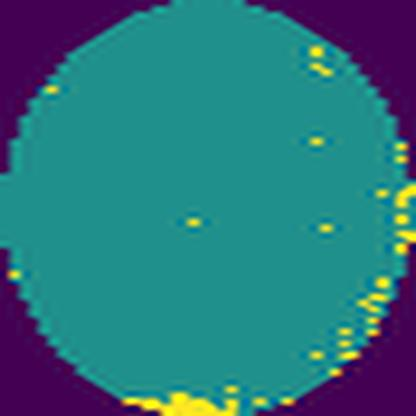Edge-Loc: (123, 388, 246, 416)
